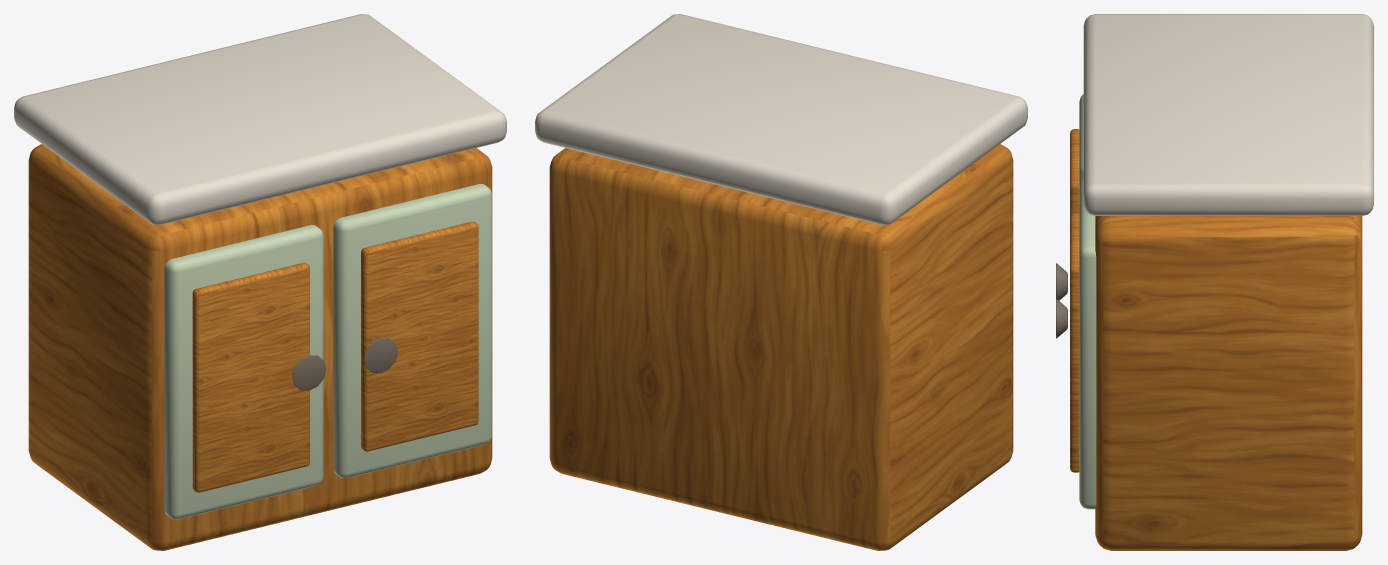
The model's file is base-cabinet.glb.
3 views of the same model, side by side, from view 1: azimuth 30°, elevation 25°; view 2: azimuth 150°, elevation 25°; view 3: azimuth 270°, elevation 25° (orthographic).
Visible parts, largest first — view 1: base-cabinet; view 2: base-cabinet; view 3: base-cabinet.
Boxes of the visible parts, x1=… form: base-cabinet: x1=14, y1=14, x2=506, y2=550; base-cabinet: x1=535, y1=14, x2=1027, y2=550; base-cabinet: x1=1056, y1=14, x2=1373, y2=550.
Bounding box in the file's own units: 0.9 × 0.8795 × 0.6791.
Materials: 5 (1 with a texture image).
